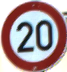20 km speed: (1, 1, 67, 71)
